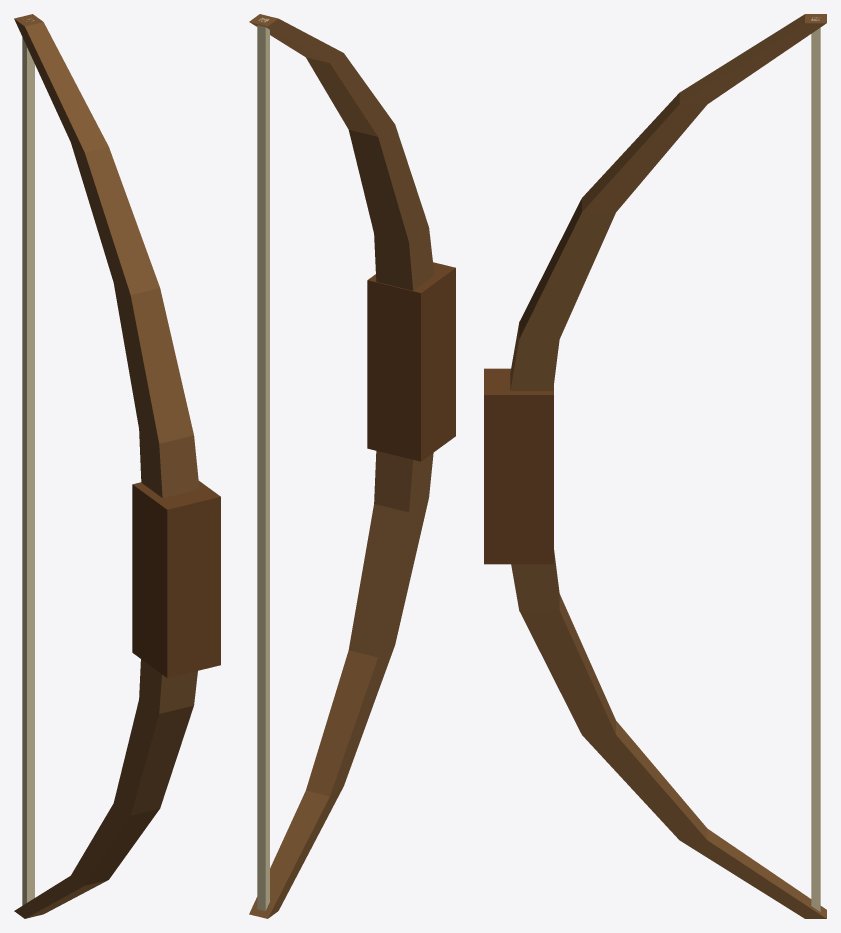
Rendered from Bow.obj.
3 renders of one model, left to right at view 1: azimuth 30°, elevation 25°; view 2: azimuth 150°, elevation 25°; view 3: azimuth 270°, elevation 25°, orthographic.
Visible parts, largest first — view 1: Limbs, String; view 2: Limbs, String; view 3: Limbs, String.
Part boxes in pixels (x1,y1,x2,y2): Limbs: (14, 14, 220, 918); String: (22, 18, 34, 905); Limbs: (249, 14, 455, 918); String: (257, 17, 269, 911); Limbs: (484, 14, 826, 918); String: (811, 17, 820, 911).
Size of the model in its own units: 0.04 by 0.6357 by 0.2205.
